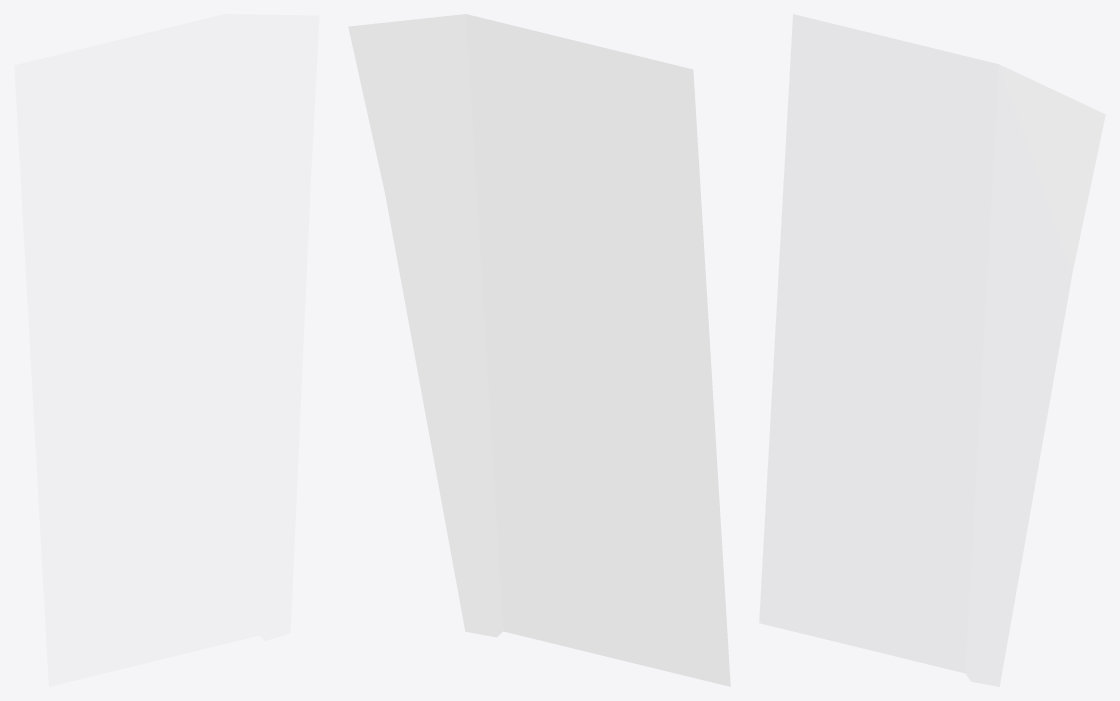
3 views of the same model, side by side, from view 1: azimuth 30°, elevation 25°; view 2: azimuth 150°, elevation 25°; view 3: azimuth 330°, elevation 25° (orthographic). The views are drawn at different scales.
Size of the model in its own units: 1.3 by 2.4 by 0.299.
Materials: 1 (1 with a texture image).
